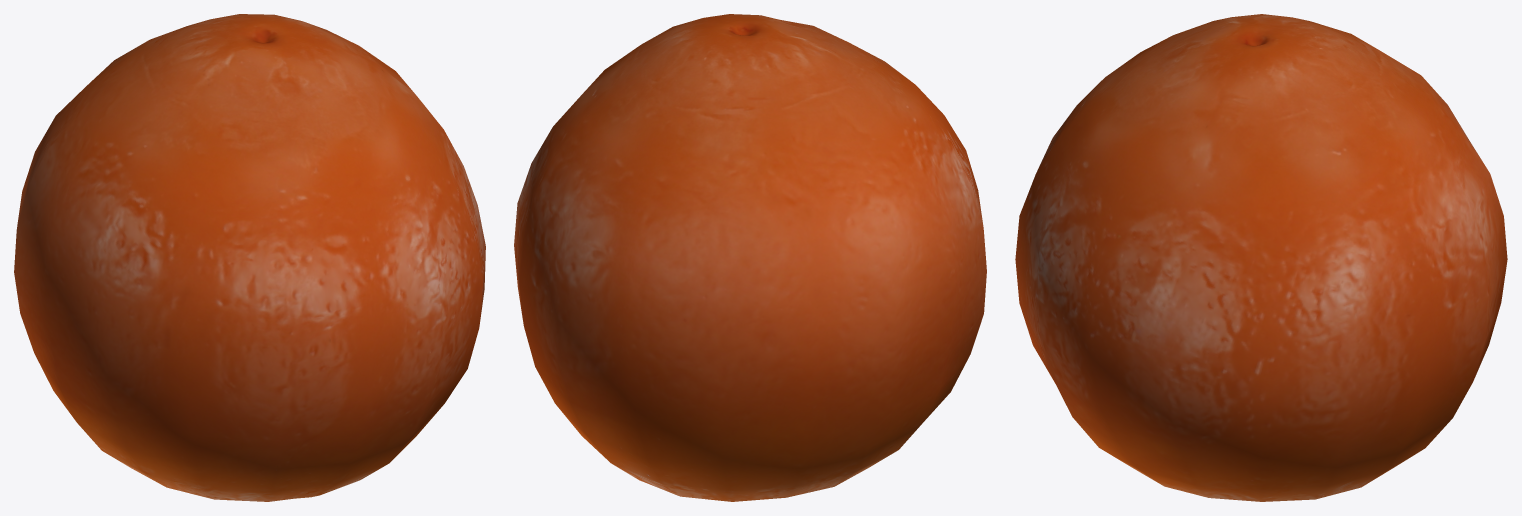
File: 017_orange.dae
The picture shows the model from 3 angles, left to right: view 1: azimuth 30°, elevation 25°; view 2: azimuth 150°, elevation 25°; view 3: azimuth 270°, elevation 25°; orthographic projection.
Visible parts, largest first — view 1: 017_orange; view 2: 017_orange; view 3: 017_orange.
Part boxes in pixels (x1,y1,x2,y2): 017_orange: [14, 14, 485, 501]; 017_orange: [514, 14, 986, 501]; 017_orange: [1015, 14, 1507, 501].
Size of the model in its own units: 0.0717 by 0.0741 by 0.0714.
1 material, 1 textured.
